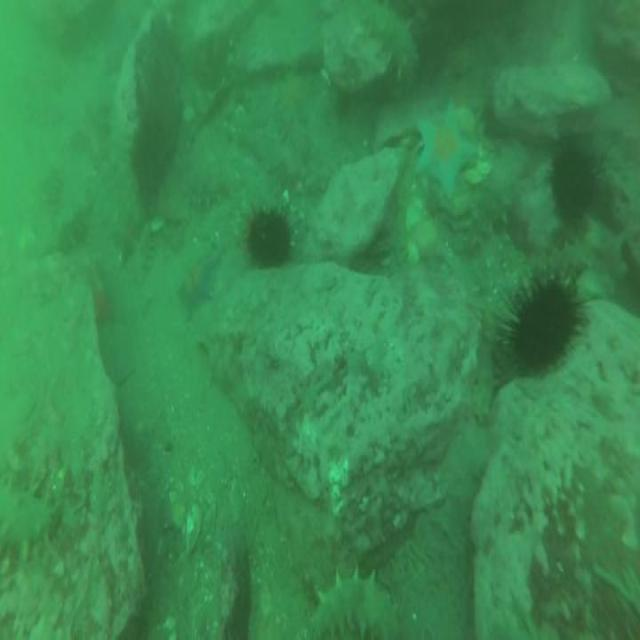echinus: (496, 259, 588, 394), (546, 131, 598, 242), (128, 108, 178, 206), (242, 199, 297, 273)
holothurian: (461, 134, 531, 253), (301, 565, 401, 640), (353, 0, 421, 92), (0, 468, 62, 562), (178, 169, 233, 217), (130, 217, 158, 296)
starfish: (411, 101, 476, 190), (176, 248, 221, 327)
